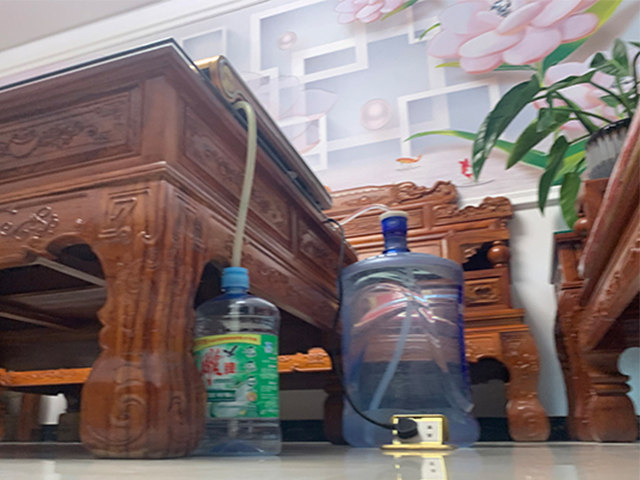table: (1, 36, 360, 461)
wire: (328, 218, 420, 438)
